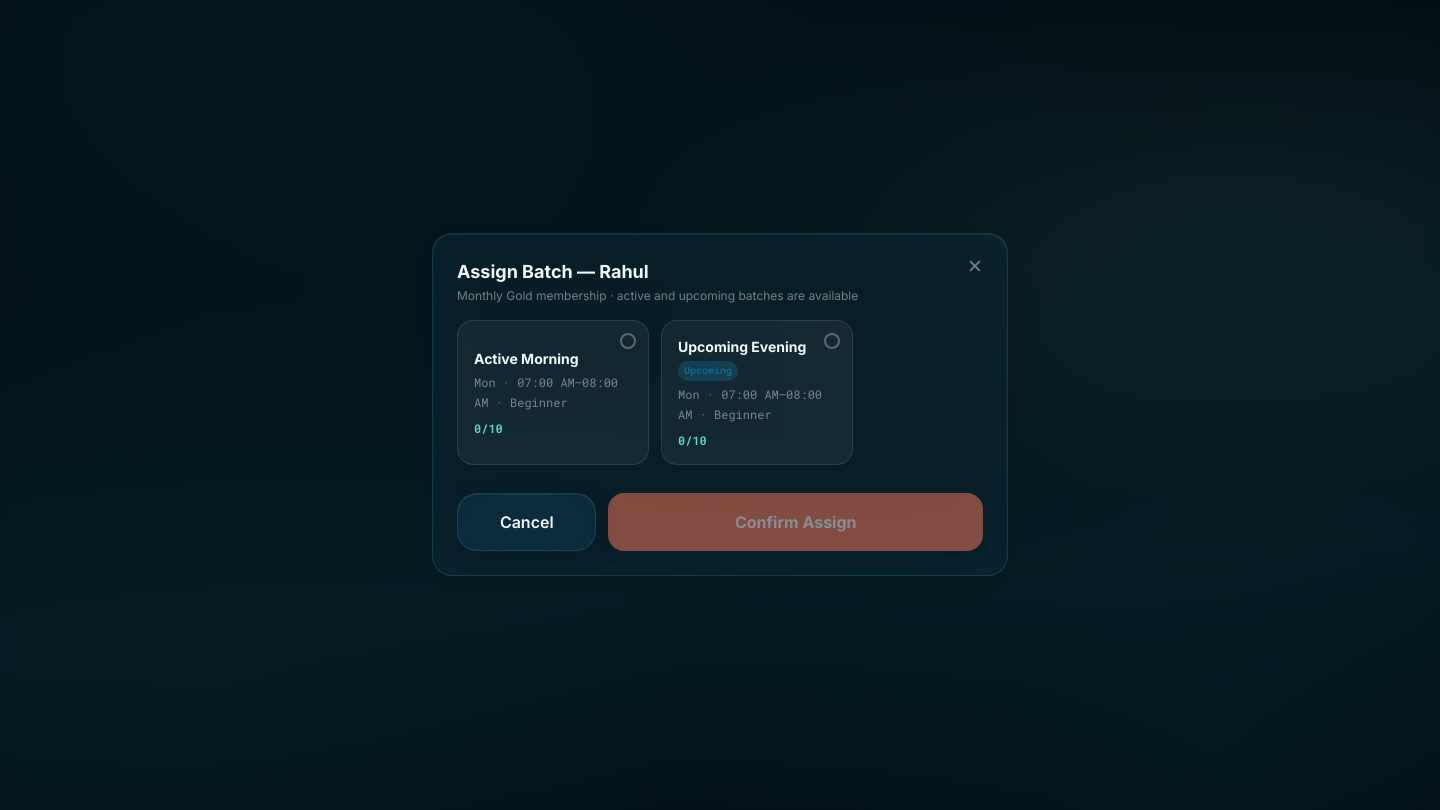
Test: BatchPickerModal › Assign mode lists only active and upcoming batches
Expected: the text "Active Morning" is shown, [474, 350, 579, 368]
Expected: the button "Confirm Assign" is disabled, [608, 494, 983, 552]
What coordinates should you click on to do the following:
click the text "Upcoming Evening"
I would click on:
 (742, 347)
Its box is [678, 338, 806, 355].
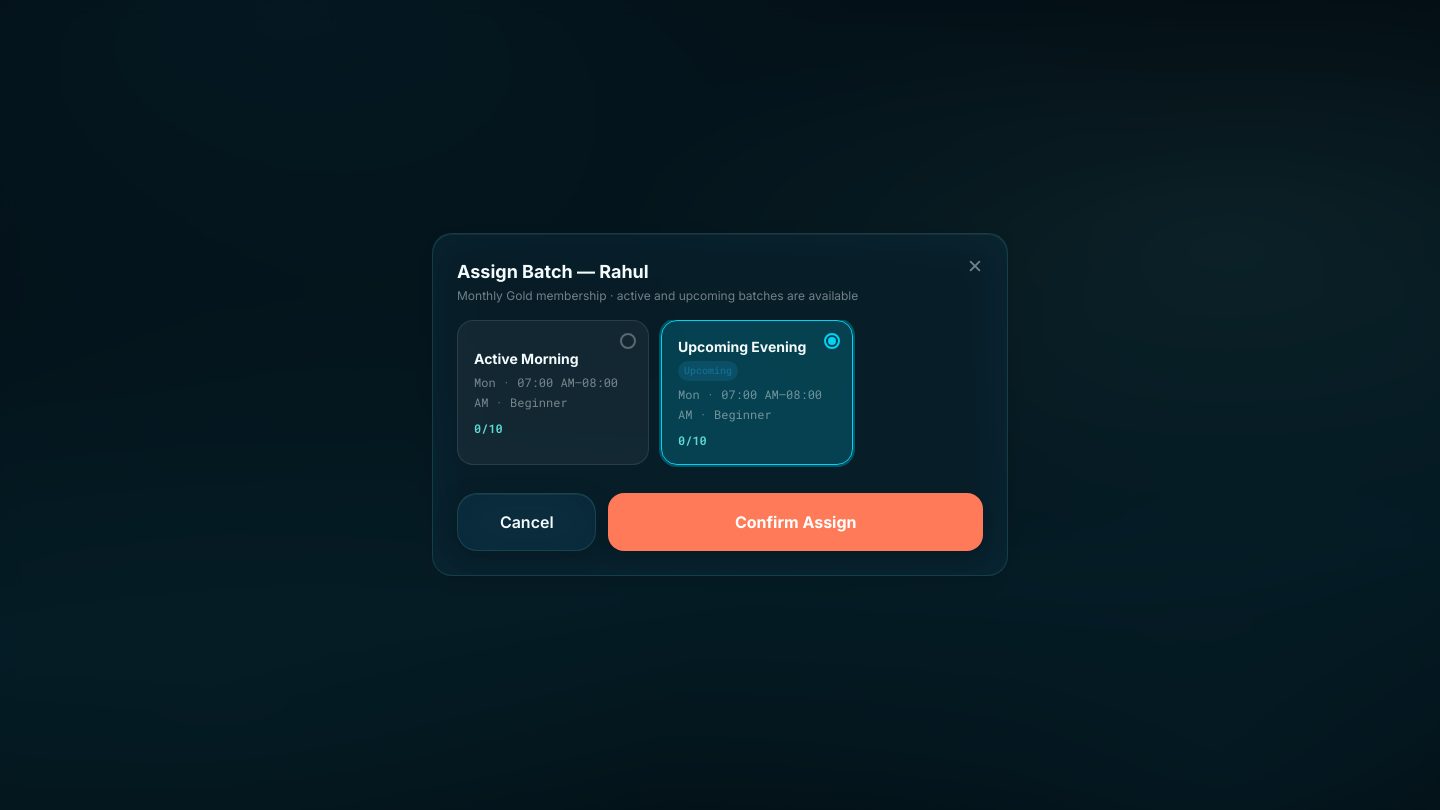
Result: the button "Confirm Assign" is enabled at [608, 494, 983, 552]
